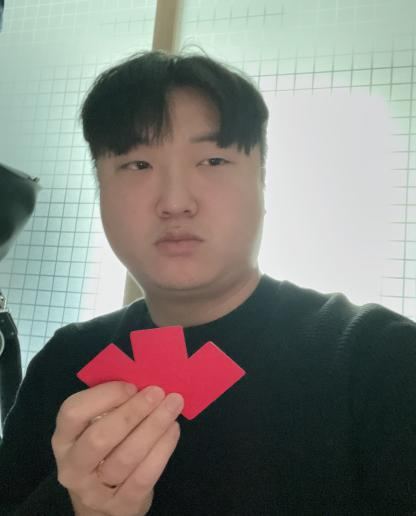ThreeHwatoo: (62, 314, 265, 421)
